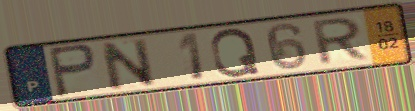1: (176, 30, 206, 84)
6: (263, 21, 310, 72)
N: (97, 36, 159, 93)
P: (45, 42, 99, 99)
Q: (208, 26, 263, 79)
R: (311, 15, 372, 68)
